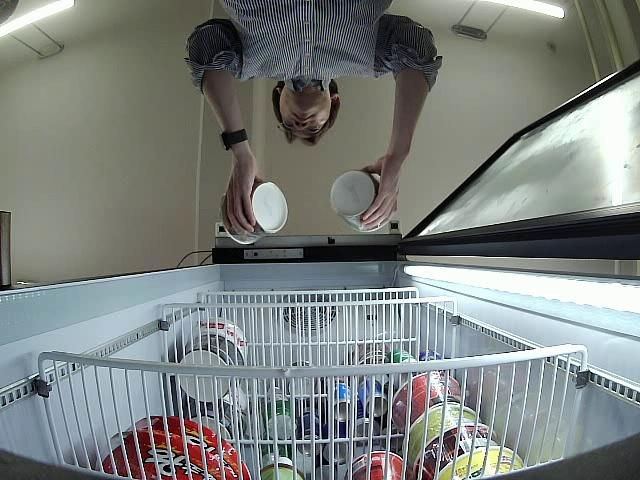00_hand: (359, 152, 404, 229), (219, 159, 257, 239)
03_chapagetti_L: (219, 175, 288, 250), (329, 174, 386, 232)
